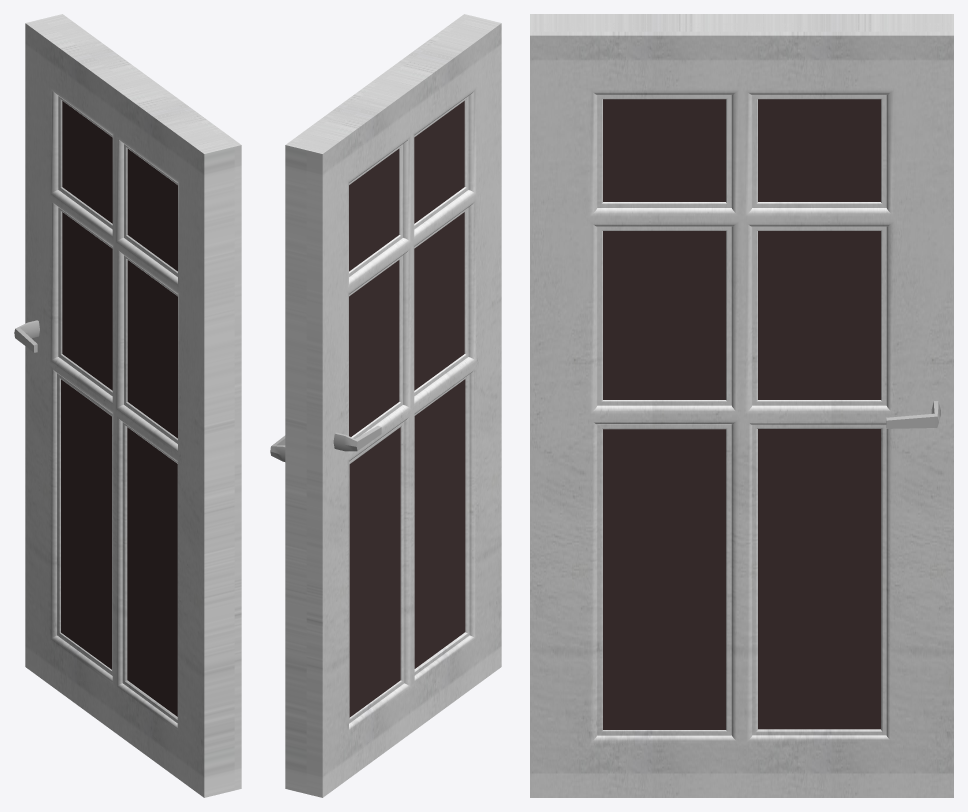
File: door please work.fbx
The picture shows the model from 3 angles, left to right: view 1: azimuth 30°, elevation 25°; view 2: azimuth 150°, elevation 25°; view 3: azimuth 270°, elevation 25°; orthographic projection. The views are drawn at different scales.
Visible parts, largest first — view 1: polySurface5; view 2: polySurface5; view 3: polySurface5.
Boxes of the visible parts, <box> form: polySurface5: <box>14,14,241,797</box>; polySurface5: <box>270,14,501,797</box>; polySurface5: <box>530,14,953,797</box>.
Bounding box in the file's own units: 1.04 × 7.37 × 3.71.
